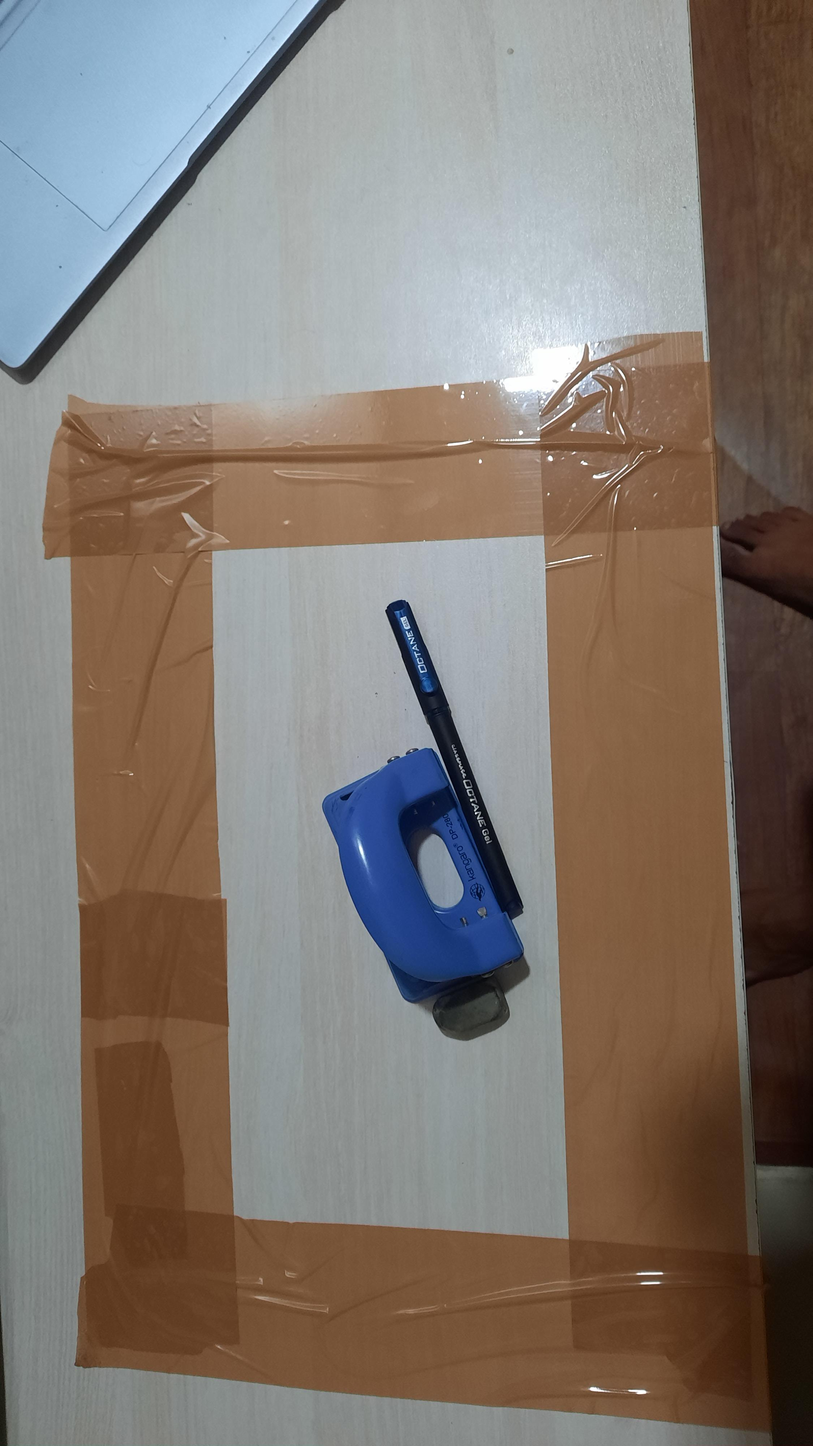Eraser: (431, 974, 510, 1041)
Pen: (386, 599, 524, 921)
Punch: (322, 746, 529, 1005)
